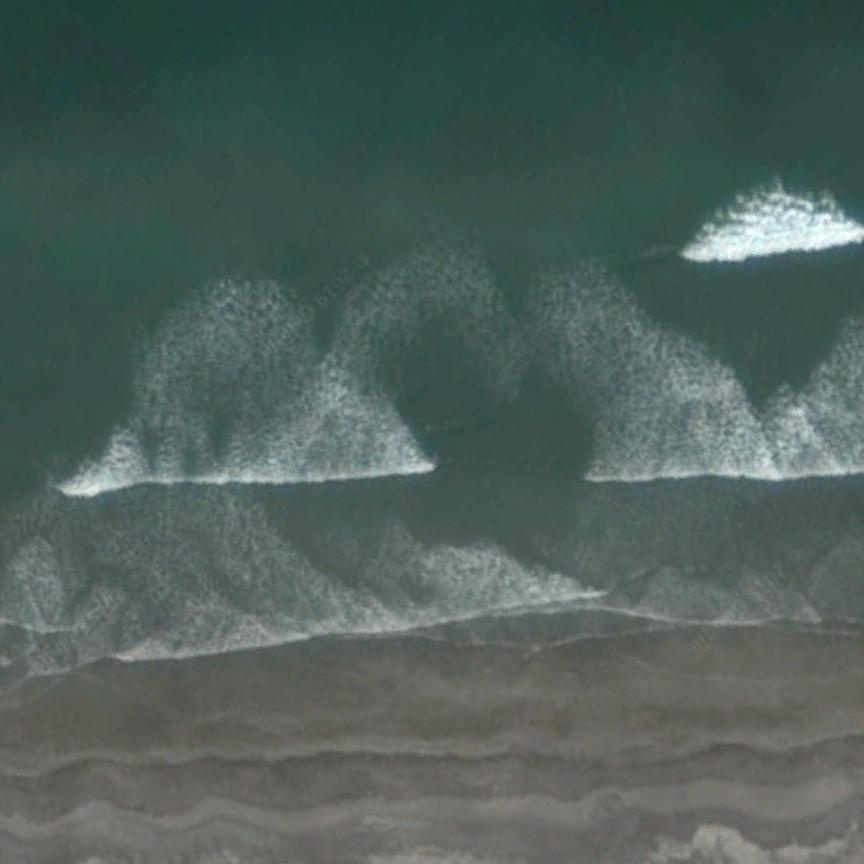rip_current: (350, 291, 635, 571)
